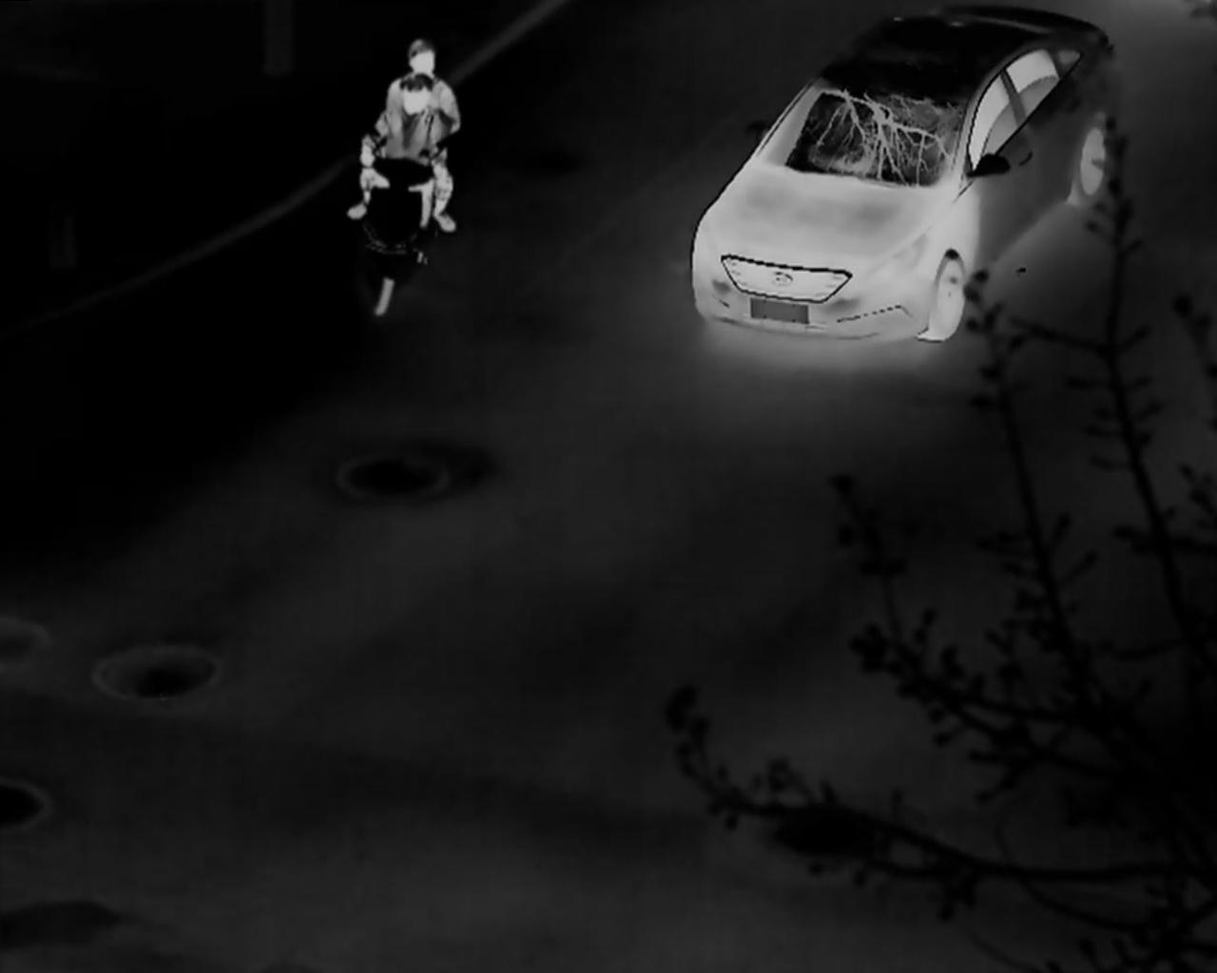person: (349, 79, 458, 235), (389, 40, 458, 230)
